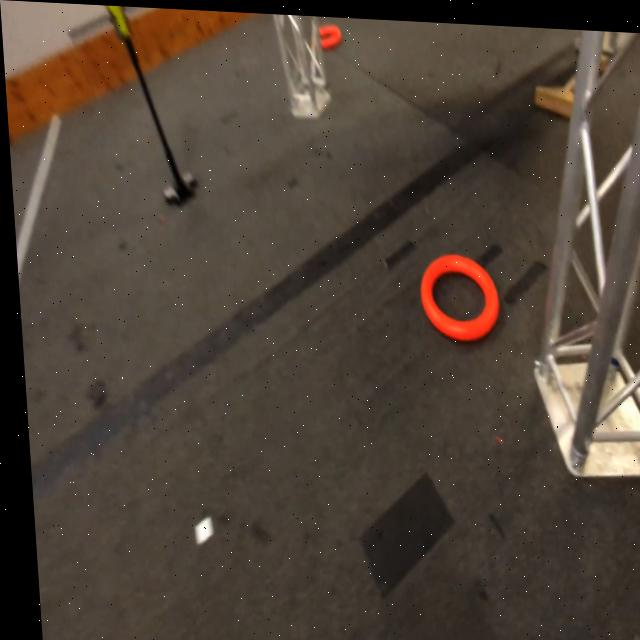note: (415, 251, 496, 337), (315, 19, 343, 45)
